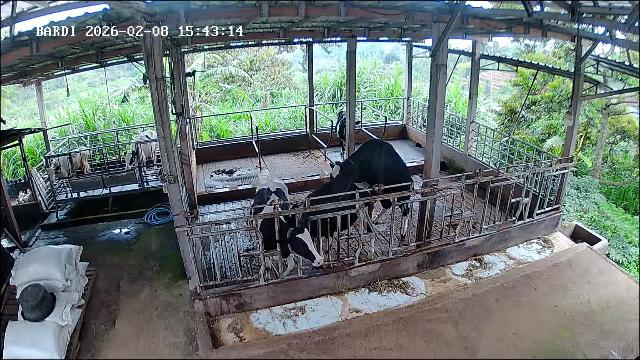mounting: (331, 137, 413, 243)
